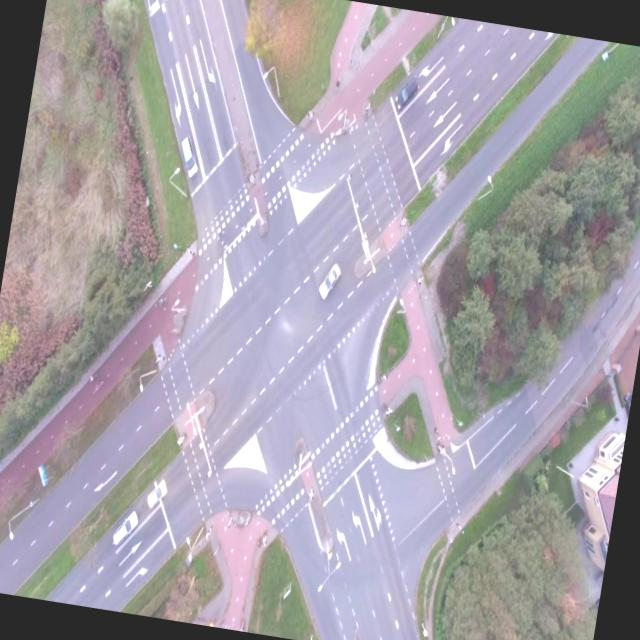car: (172, 132, 205, 180), (313, 260, 347, 304), (110, 505, 142, 550), (392, 74, 423, 112), (144, 476, 171, 510)
